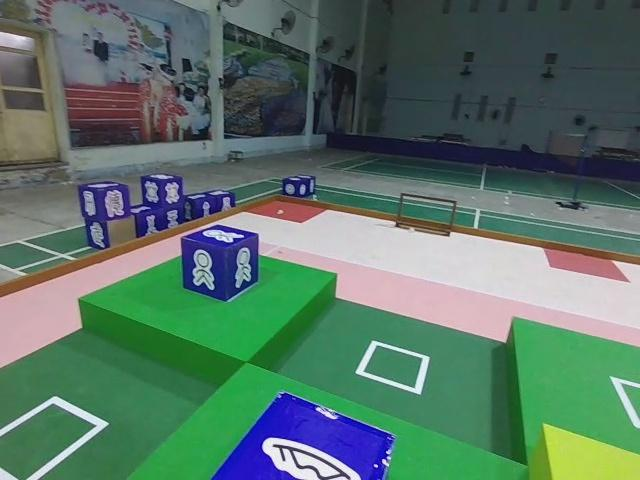R2 Real Blue: (209, 386, 397, 480), (180, 226, 262, 304)
